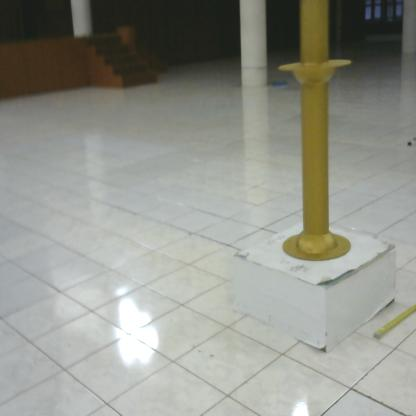pole: (267, 1, 361, 273)
